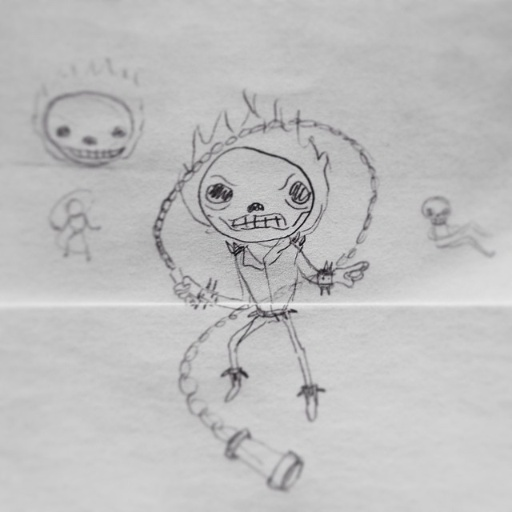hand: (172, 272, 204, 303), (335, 261, 368, 288)
